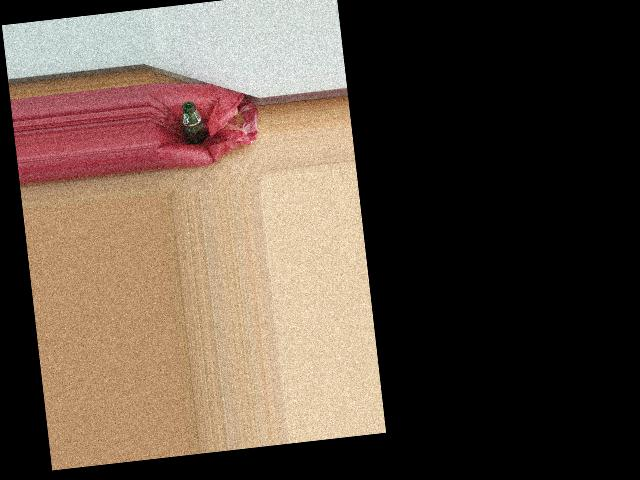beer: (177, 100, 207, 146)
